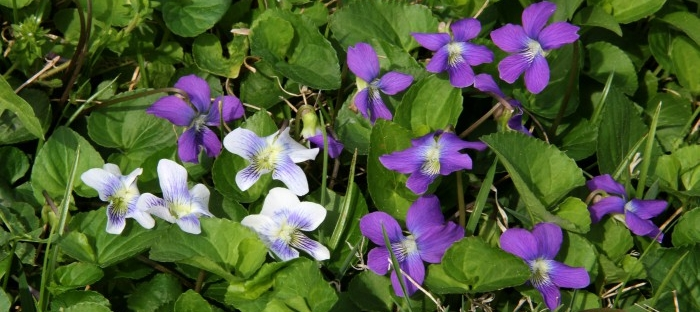violet: (342, 197, 464, 294), (494, 215, 593, 309), (483, 5, 576, 98), (144, 73, 239, 158), (237, 185, 330, 270), (582, 166, 668, 244), (132, 163, 217, 240), (227, 124, 320, 192), (372, 126, 484, 182), (412, 21, 488, 89), (338, 41, 401, 116), (84, 165, 146, 235)
